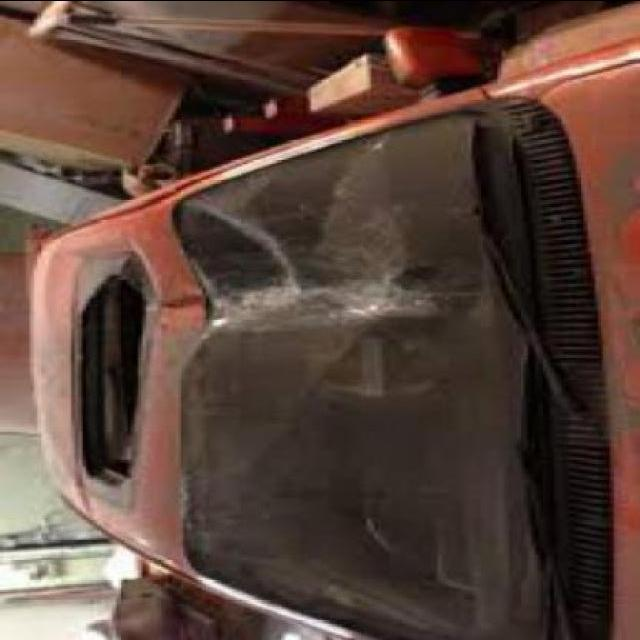Front-Windscreen-Damage: (180, 96, 629, 623)
roof-dent: (34, 216, 191, 549)
